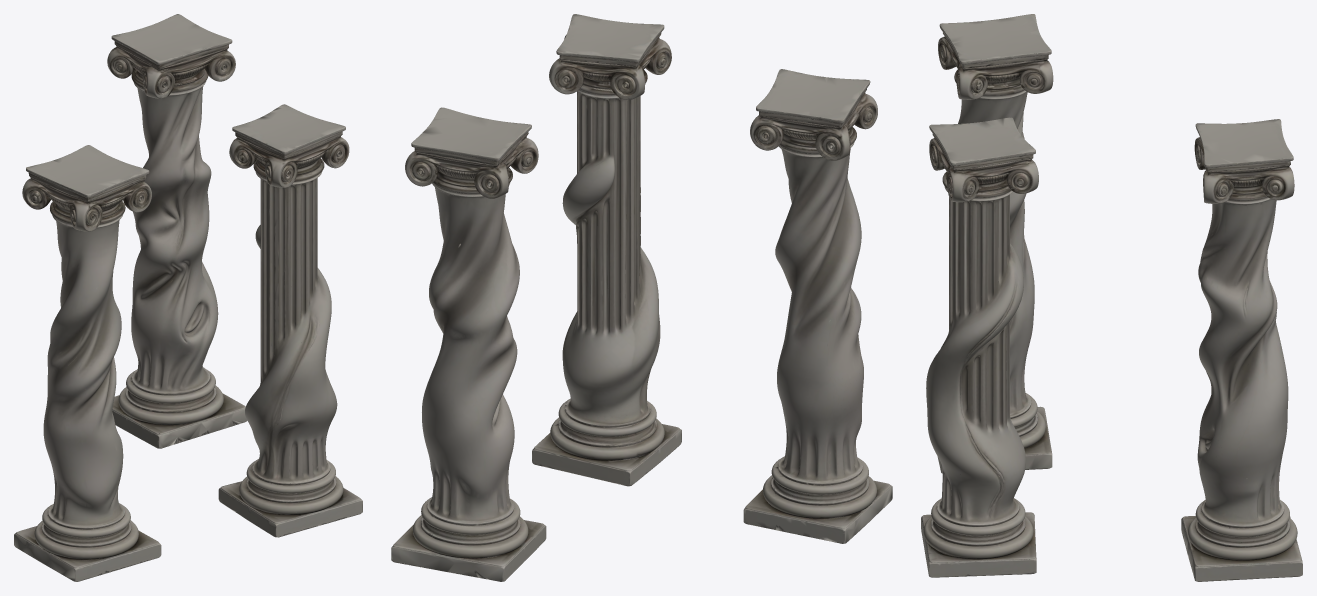
Rendered from column.glb.
3 views of the same model, side by side, from view 1: azimuth 30°, elevation 25°; view 2: azimuth 150°, elevation 25°; view 3: azimuth 270°, elevation 25° (orthographic). The views are drawn at different scales.
Visible parts, largest first — view 1: material; view 2: material; view 3: material.
Boxes of the visible parts, box(x1,y1,x2,y2) form: material: box(14, 14, 362, 581); material: box(391, 14, 892, 581); material: box(921, 14, 1302, 581).
Bounding box in the file's own units: 0.6623 × 0.7929 × 0.666.
Materials: 1 (1 with a texture image).
